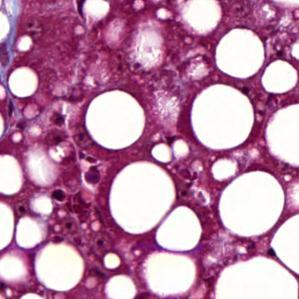steatosis: (109, 161, 174, 235), (218, 167, 283, 239), (189, 82, 254, 151), (81, 91, 149, 151), (7, 67, 42, 99)
